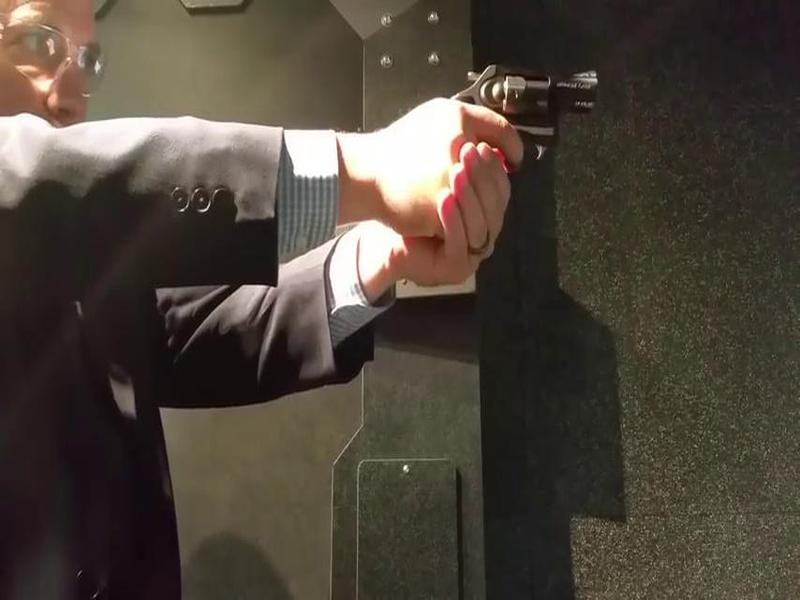Revolver: (437, 51, 610, 179)
